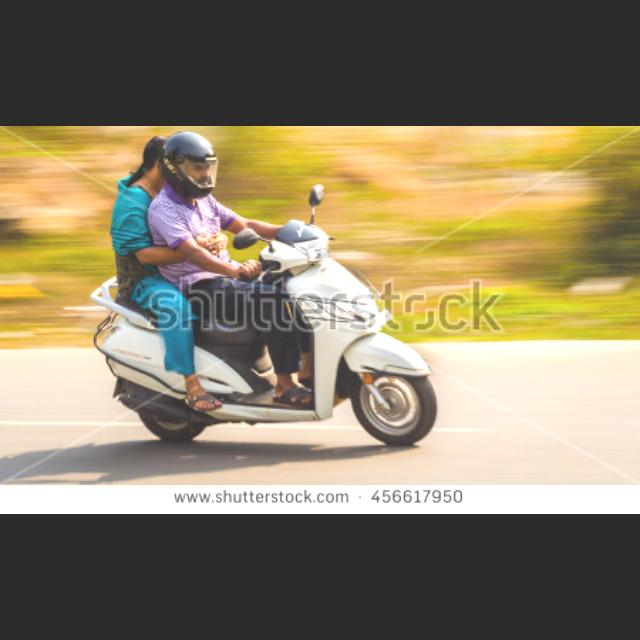With Helmet: (161, 126, 225, 204)
